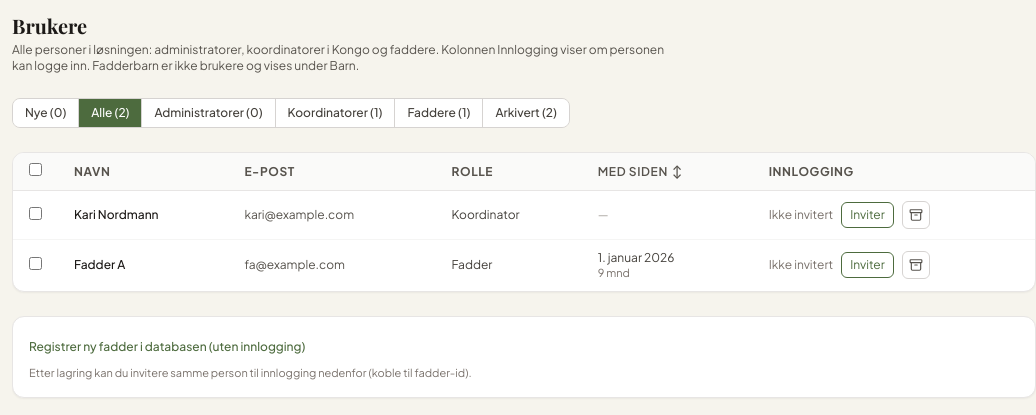
brukerlisten: arkiv › viser arkiverte under Arkivert og ingen aktive
This screenshot has width=1036, height=415.
Click the button "Arkivert (2)" at (526,113), box [483, 99, 569, 127]
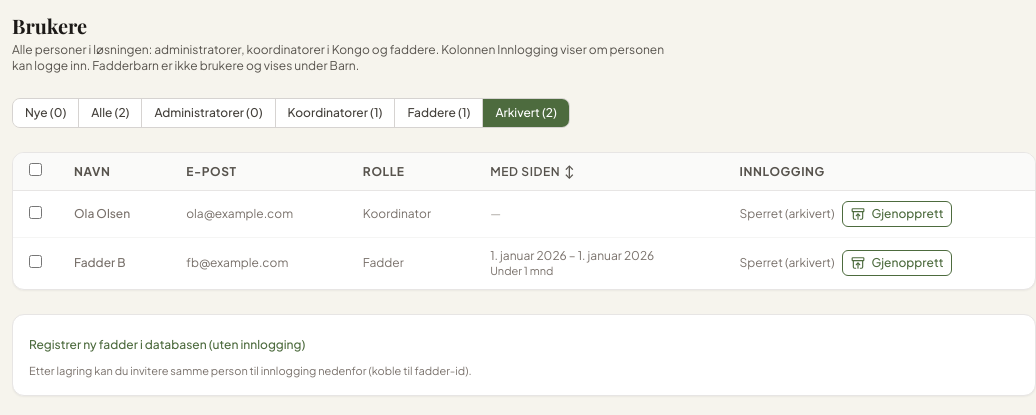
Check: the text "Ola Olsen" is shown, box [74, 206, 130, 222]
Check: the text "Fadder B" is shown, box [74, 255, 126, 271]
Check: the text "Kari Nordmann" is gone
